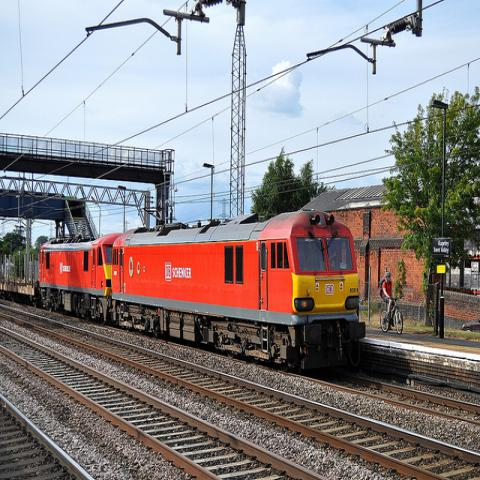car: (461, 317, 480, 333)
